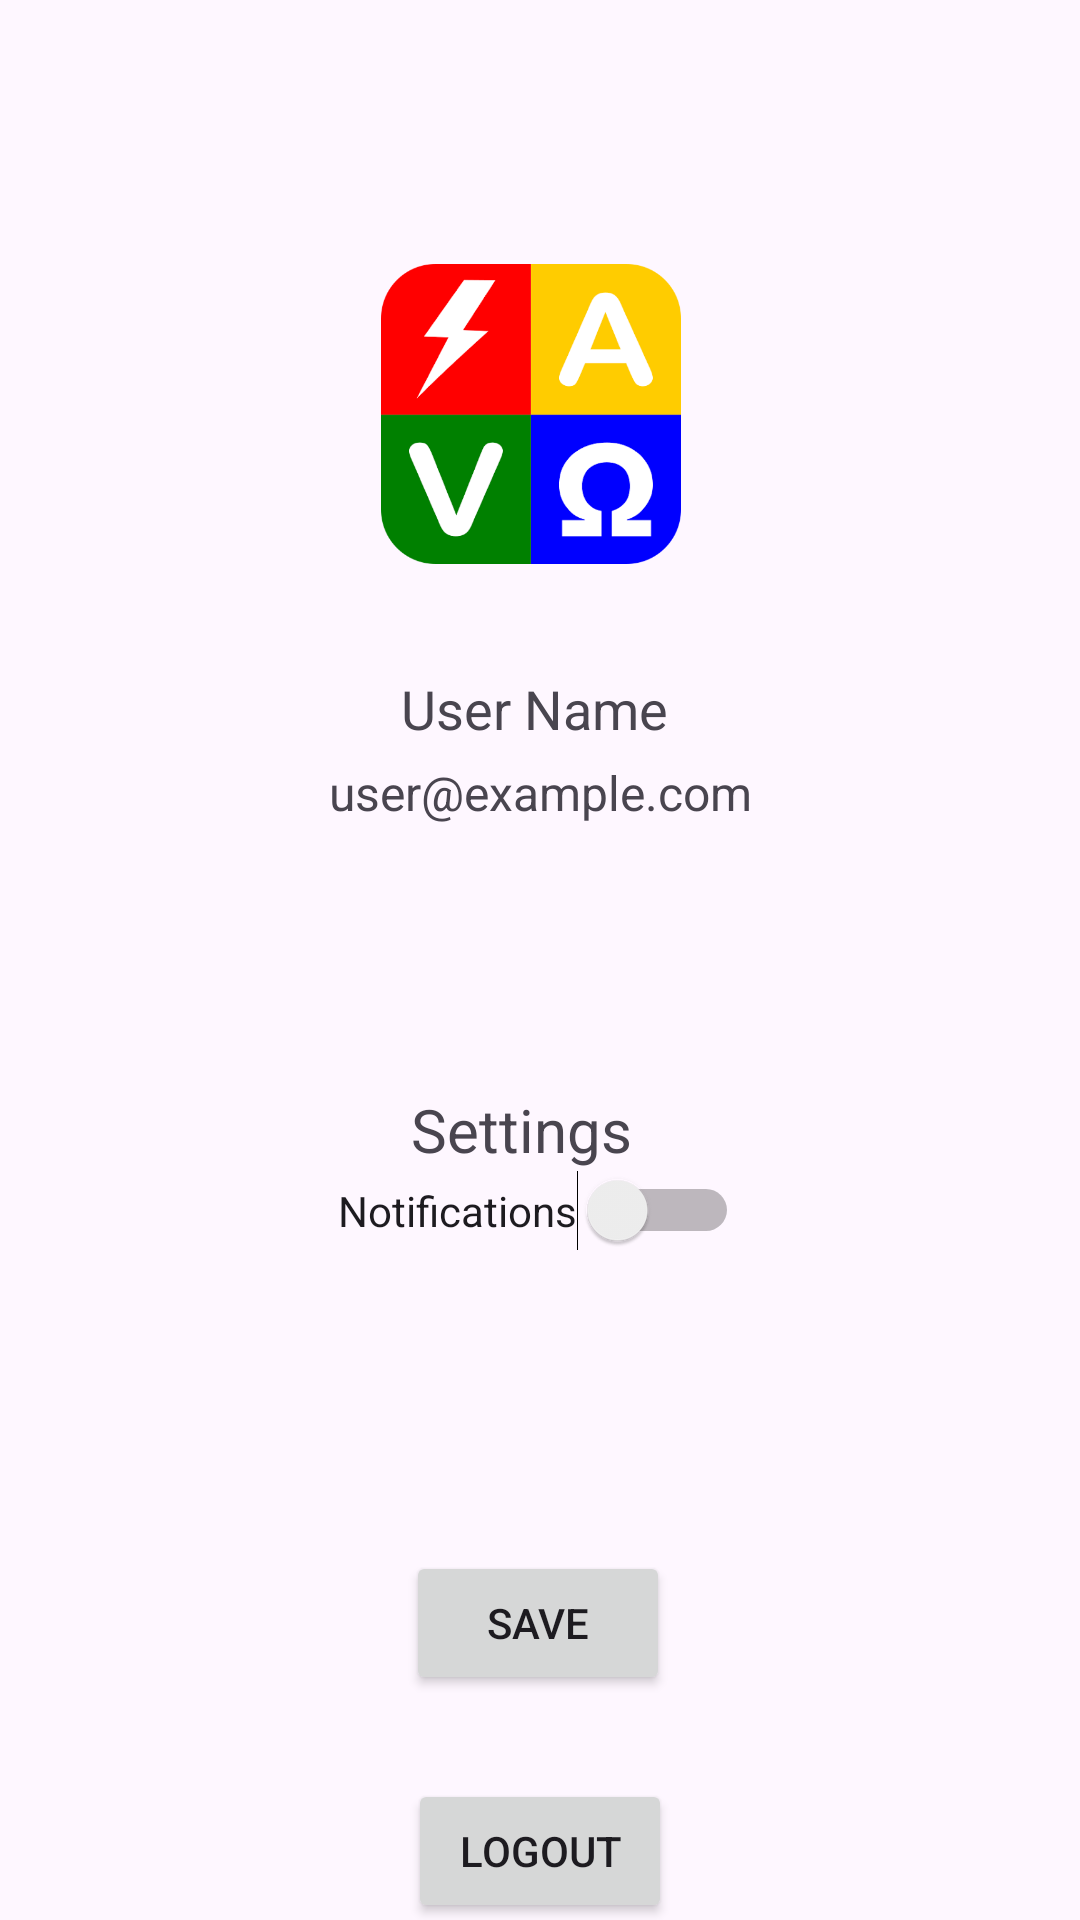

Icons on this 1080 × 1920 Android screen, each with the point to tap as (x,y):
ohms law: (531,414)
